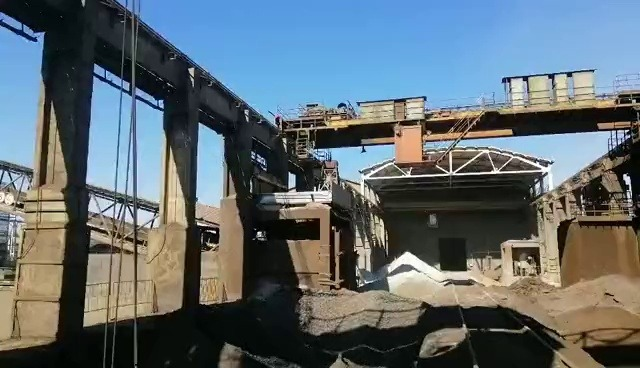grab: (314, 156, 342, 188)
